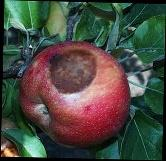rotten apple: (17, 41, 133, 147)
